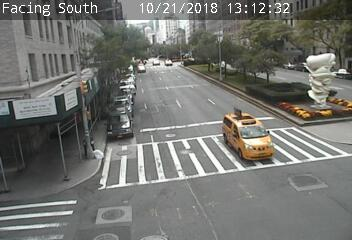car: (221, 113, 267, 157), (137, 64, 146, 73), (164, 59, 171, 65), (152, 59, 158, 65)
